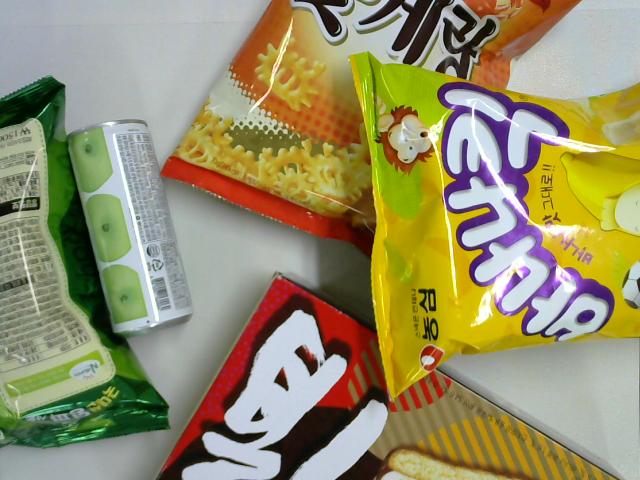Banana_Kick: (345, 49, 640, 407)
Choco_Pie_Banana: (155, 271, 625, 480)
Crabrang: (158, 1, 581, 268)
Demisoda_Apple_Can_250ml: (65, 118, 189, 336)
Grilled_Onions: (1, 72, 173, 455)
